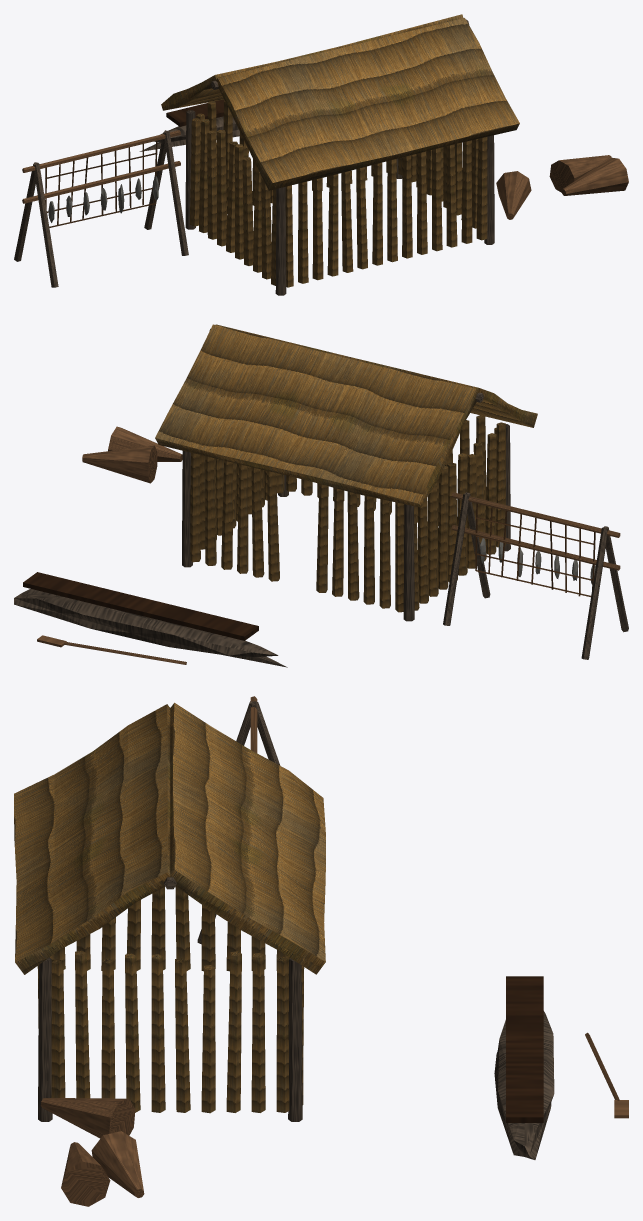
Rendered from capanno_pesca.glb.
The picture shows the model from 3 angles, top to bottom: view 1: azimuth 30°, elevation 25°; view 2: azimuth 150°, elevation 25°; view 3: azimuth 270°, elevation 25°; orthographic projection. The views are drawn at different scales.
Parts seen in each view (by area): view 1: capanno_pesca; view 2: capanno_pesca; view 3: capanno_pesca.
Part boxes in pixels (x1,y1,x2,y2): capanno_pesca: (14,14,628,295); capanno_pesca: (14,324,628,667); capanno_pesca: (14,696,628,1206).
Bounding box in the file's own units: 8.38 × 2.78 × 5.9.
Materials: 6 (6 with a texture image).
